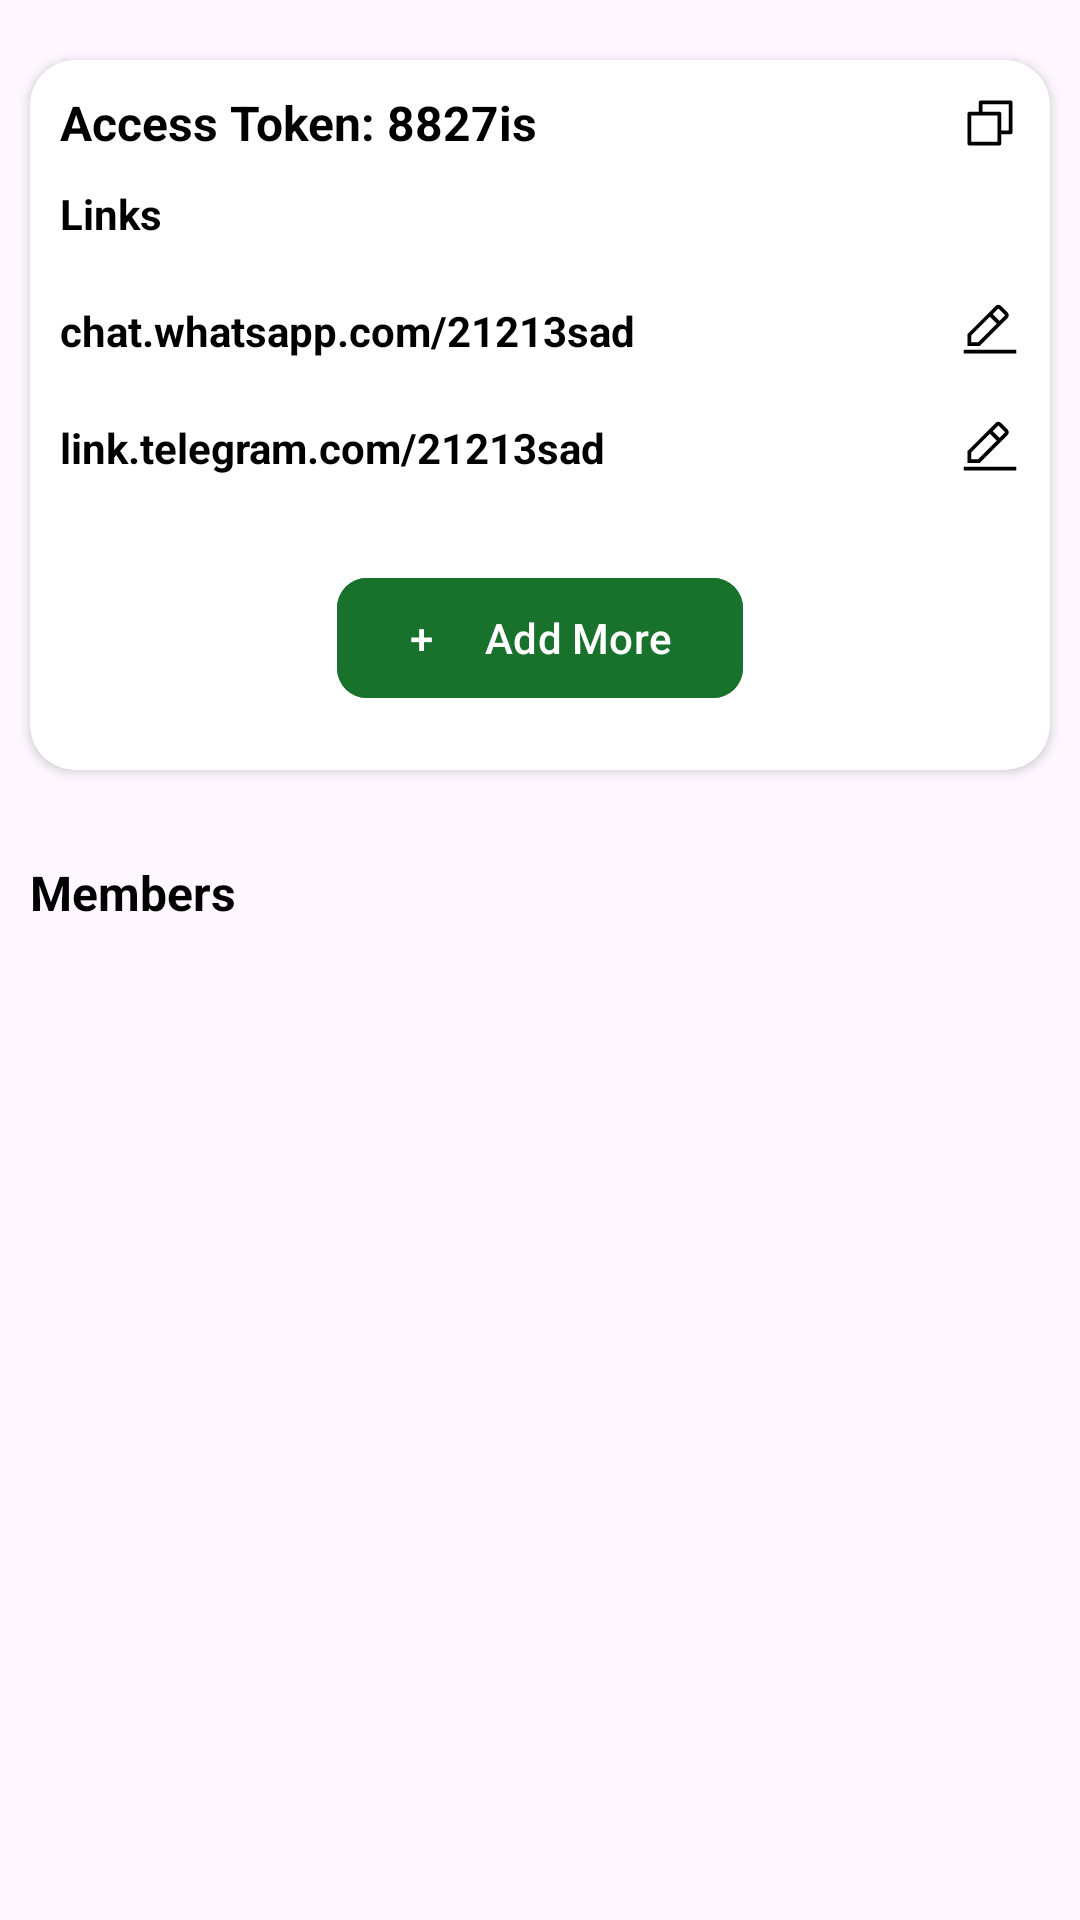

Point at icon controls on the screen. Image size 1080x1920, points as (x=x, y=y).
edit: (x=990, y=329), (x=990, y=446)
